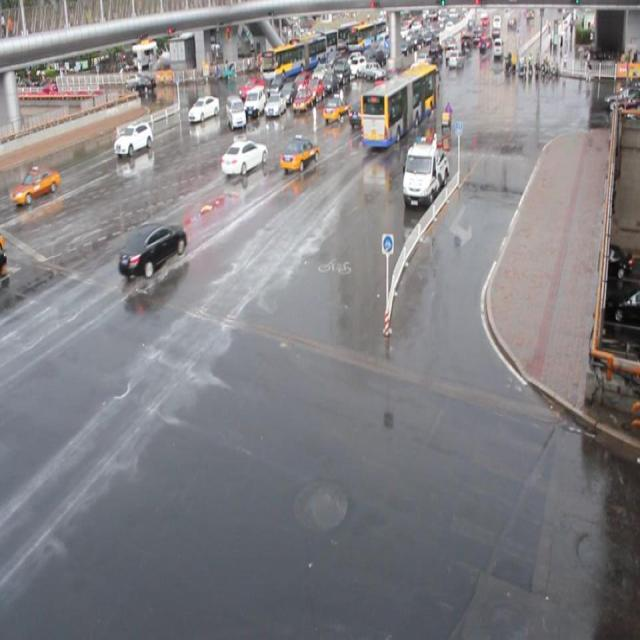bus: (402, 138, 449, 207)
car: (117, 220, 187, 278), (10, 166, 60, 205), (220, 139, 267, 175), (279, 134, 319, 171), (114, 121, 153, 156), (187, 95, 220, 122), (322, 93, 351, 122), (362, 86, 387, 119), (346, 97, 373, 127), (371, 78, 394, 105), (238, 76, 264, 99), (291, 88, 313, 114), (265, 92, 287, 118), (266, 74, 289, 97), (304, 78, 324, 102), (279, 81, 298, 104), (291, 73, 311, 94)
truck: (225, 94, 246, 131), (245, 86, 268, 117)
van: (359, 62, 436, 148)
